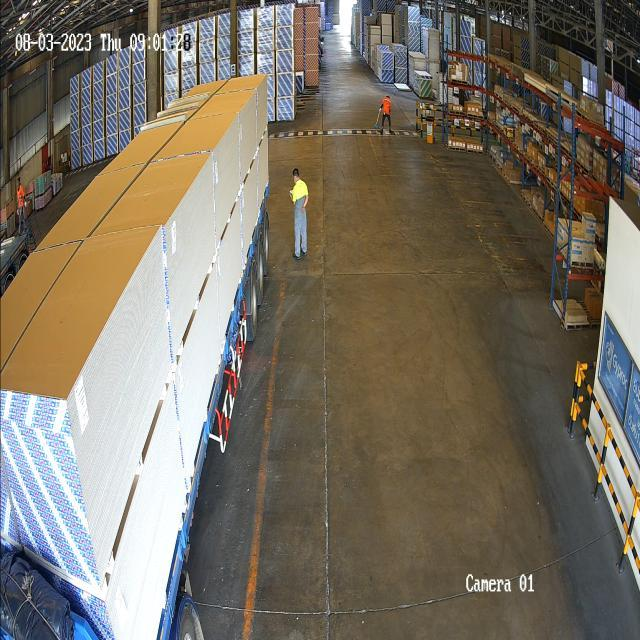person: (286, 162, 310, 262), (14, 178, 24, 230), (381, 93, 392, 129)
